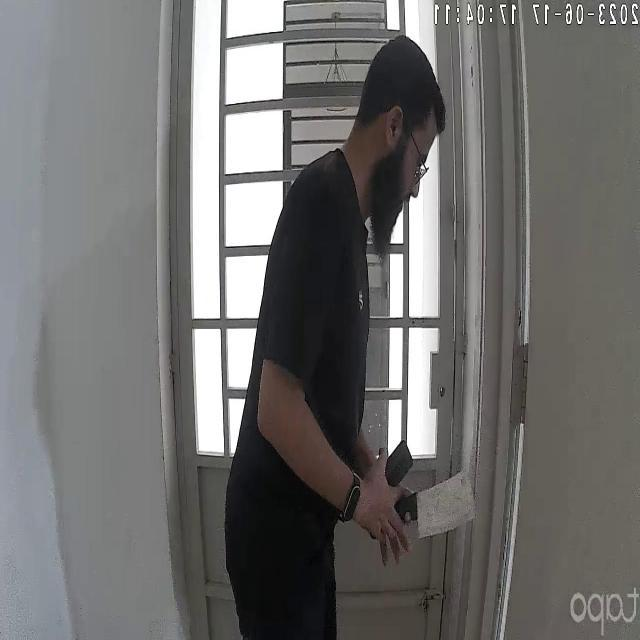Knife: (393, 461, 482, 535)
